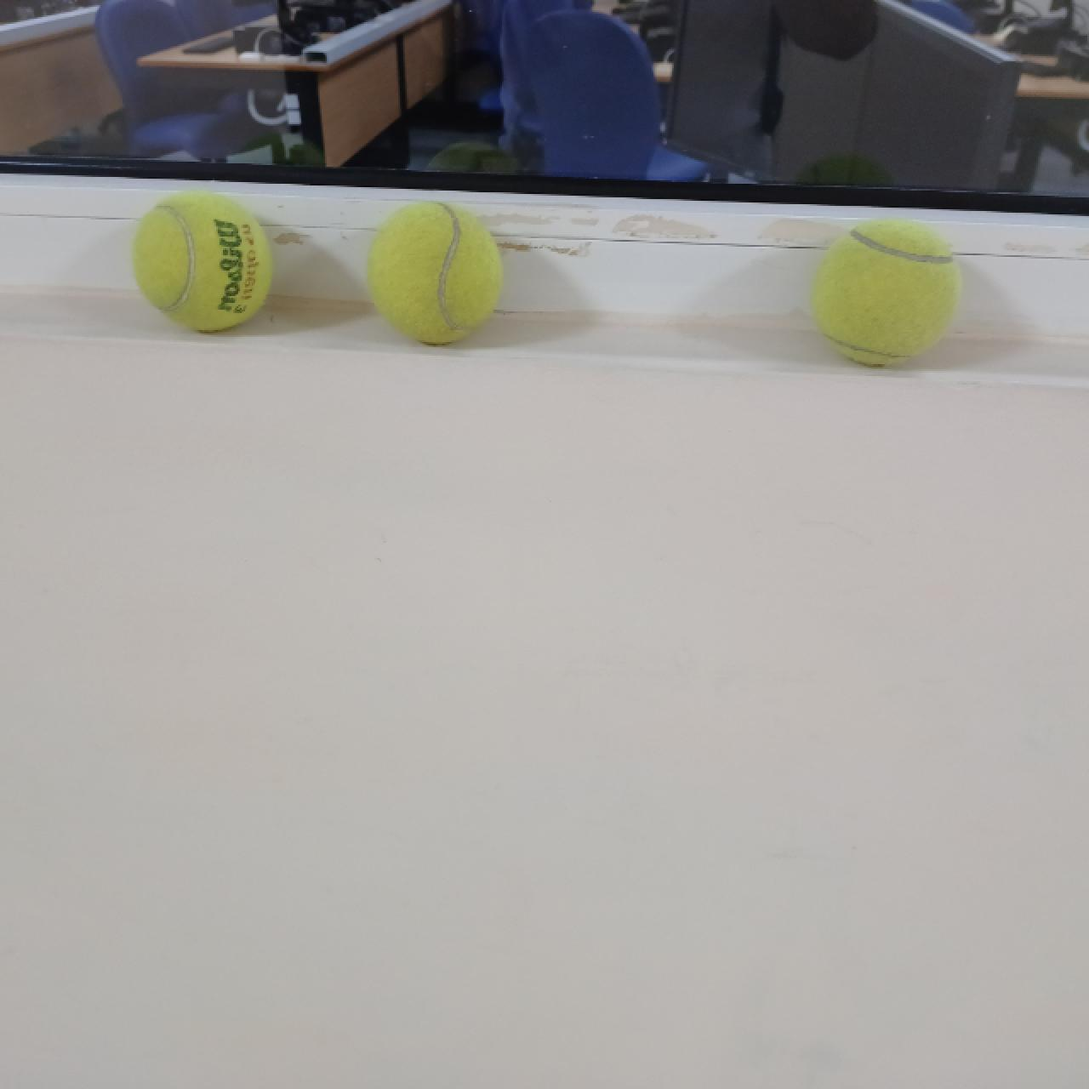tennis-ball: (815, 217, 958, 368), (367, 197, 503, 350), (139, 192, 274, 334)
